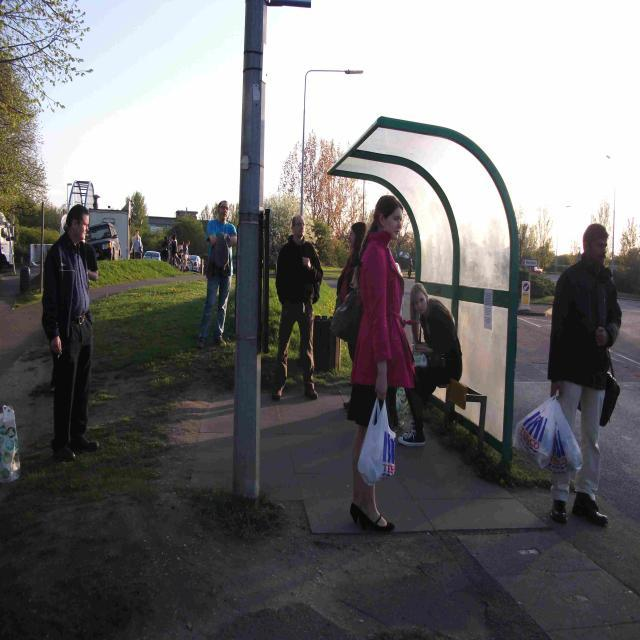bareface: (581, 212, 607, 272), (374, 196, 401, 242), (68, 204, 88, 244), (414, 288, 426, 312), (294, 216, 306, 235), (348, 226, 358, 248), (218, 202, 228, 222)
